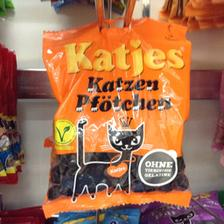Suessigkeit: (42, 23, 188, 214)
